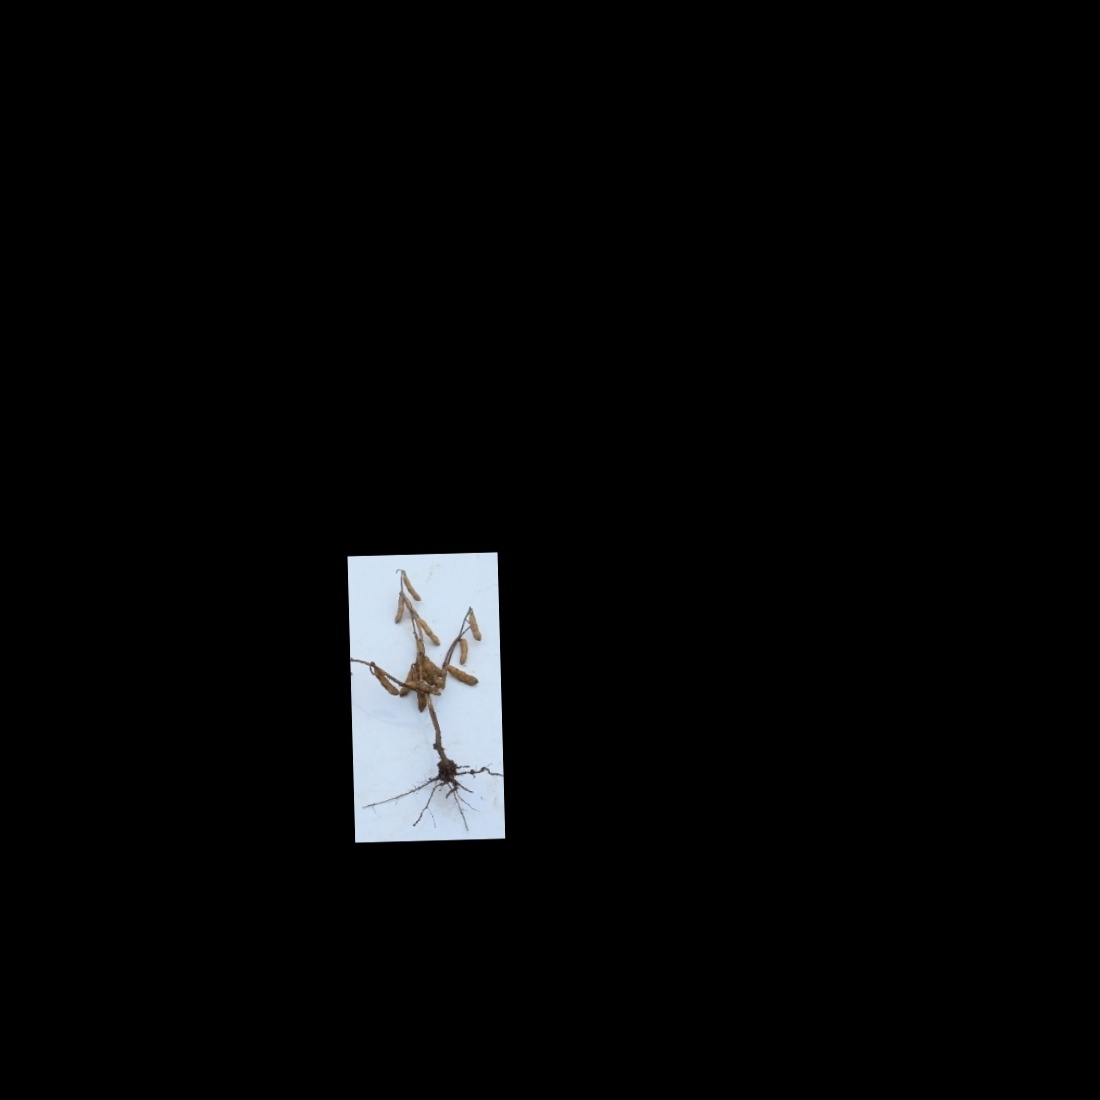pod: (446, 662, 480, 689), (416, 615, 442, 647), (401, 573, 423, 602), (467, 608, 483, 644), (391, 595, 406, 624), (414, 690, 428, 713)
soy: (361, 564, 499, 826)
